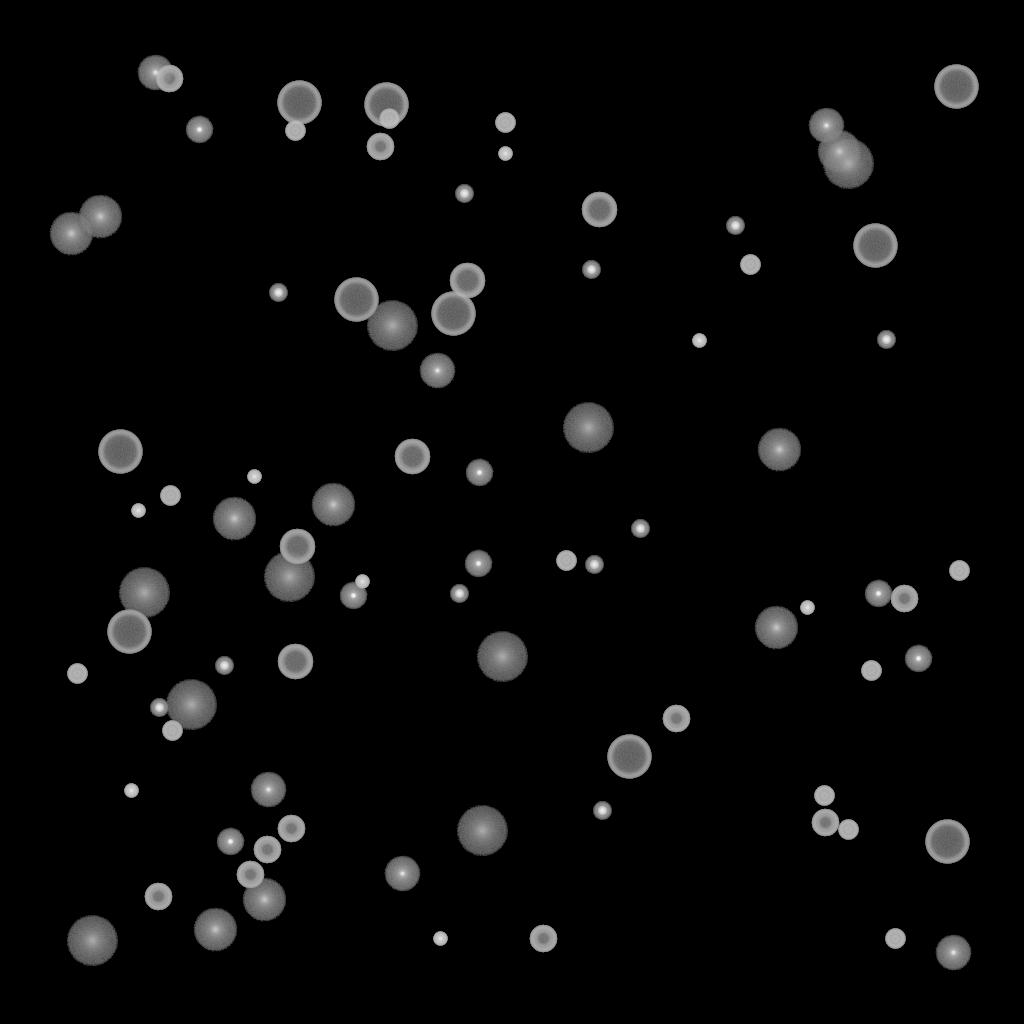depth:-10: (864, 580, 892, 608), (904, 645, 932, 673), (464, 550, 492, 578), (339, 582, 367, 610), (216, 828, 244, 856), (465, 459, 493, 487), (185, 116, 213, 144)
depth:-20: (593, 802, 611, 820), (455, 185, 473, 203), (631, 520, 649, 538), (269, 284, 287, 302), (582, 261, 600, 279), (877, 331, 895, 349), (726, 217, 744, 235), (585, 556, 603, 574), (150, 699, 168, 717), (450, 585, 468, 603), (215, 657, 233, 675)
depth:-30: (124, 784, 138, 798), (498, 147, 512, 161), (131, 504, 145, 518), (355, 575, 369, 589), (433, 932, 447, 946), (247, 470, 261, 484), (692, 334, 706, 348), (800, 601, 814, 615)
depth:-40: (838, 820, 858, 840), (495, 113, 515, 133), (160, 486, 180, 506), (162, 721, 182, 741), (379, 109, 399, 129), (885, 929, 905, 949), (67, 664, 87, 684), (285, 121, 305, 141), (861, 661, 881, 681), (814, 786, 834, 806), (556, 551, 576, 571), (949, 561, 969, 581), (740, 255, 760, 275)
depth:-50: (253, 836, 281, 864), (366, 133, 394, 161), (236, 861, 264, 889), (890, 585, 918, 613), (155, 65, 183, 93), (662, 705, 690, 733), (277, 815, 305, 843), (811, 809, 839, 837), (529, 925, 557, 953), (144, 883, 172, 911)
depth:-60: (279, 529, 315, 565), (581, 192, 617, 228), (277, 644, 313, 680), (394, 439, 430, 475), (449, 263, 485, 299)
depth:-70: (98, 430, 142, 474), (934, 65, 978, 109), (334, 278, 378, 322), (277, 81, 321, 125), (431, 292, 475, 336), (853, 224, 897, 268), (607, 735, 651, 779), (107, 610, 151, 654), (925, 820, 969, 864), (364, 83, 408, 127)
depth:0: (250, 772, 286, 808), (935, 935, 971, 971), (419, 353, 455, 389), (137, 55, 173, 91), (384, 856, 420, 892), (808, 108, 844, 144)
depth:10: (78, 195, 122, 239), (754, 606, 798, 650), (242, 878, 286, 922), (311, 483, 355, 527), (757, 428, 801, 472), (49, 212, 93, 256), (817, 130, 861, 174), (193, 908, 237, 952), (212, 497, 256, 541)
depth:20: (263, 552, 315, 602), (476, 632, 528, 682), (165, 680, 217, 730), (822, 139, 874, 189), (66, 916, 118, 966), (562, 403, 614, 453), (118, 568, 170, 618), (366, 301, 418, 351), (456, 806, 508, 856)
